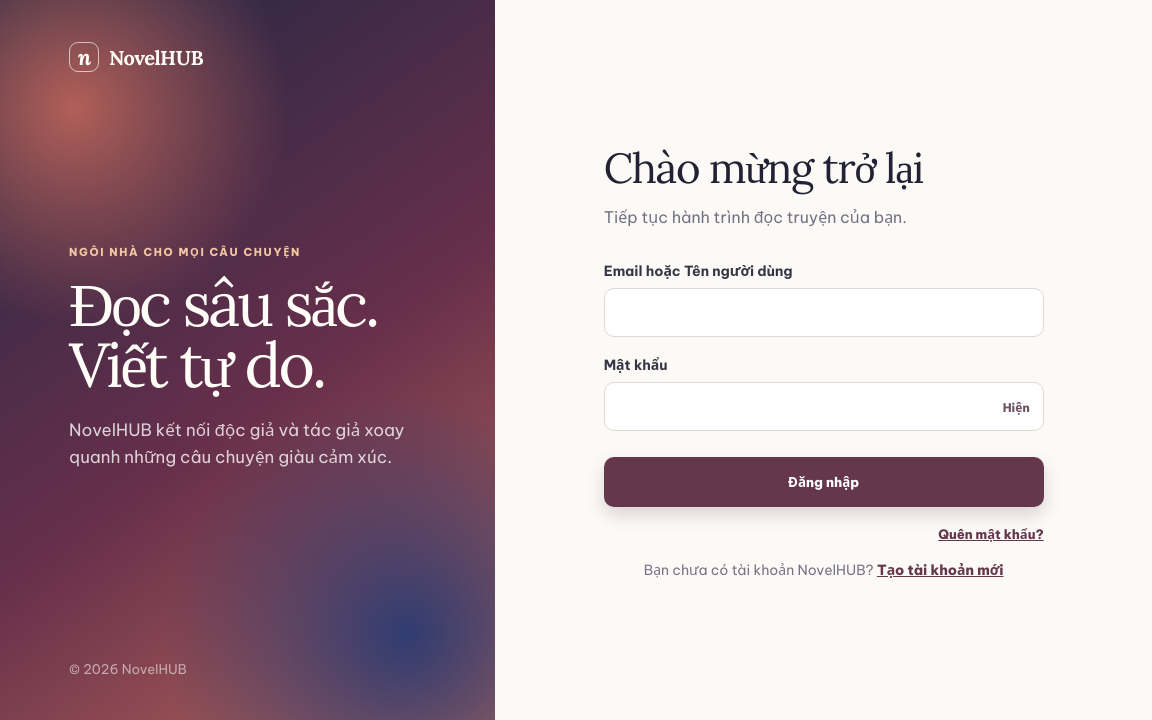
Test case: LoginPage › shows a generic error when sign in fails
The image size is (1152, 720).
Type "reader01" into the field labelled "Email hoặc Tên người dùng" at (824, 313), box [604,288,1044,337]
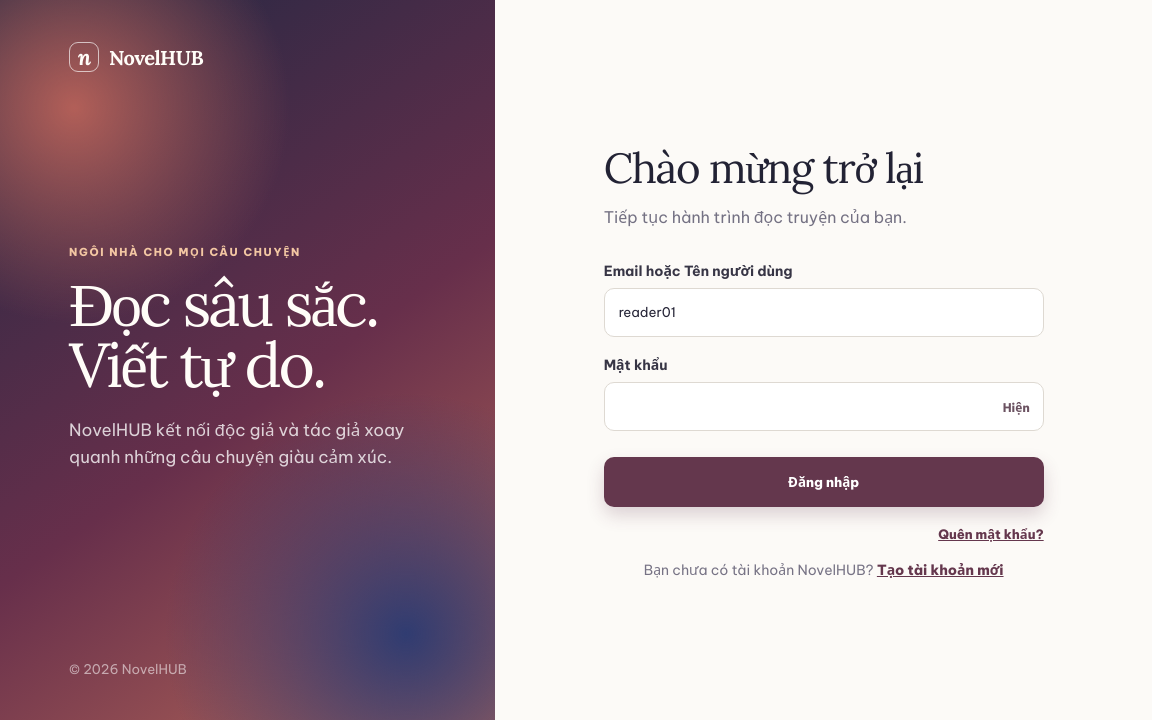
Type "wrong-password" into the password field labelled "Mật khẩu" at (824, 407), box [604,382,1044,431]
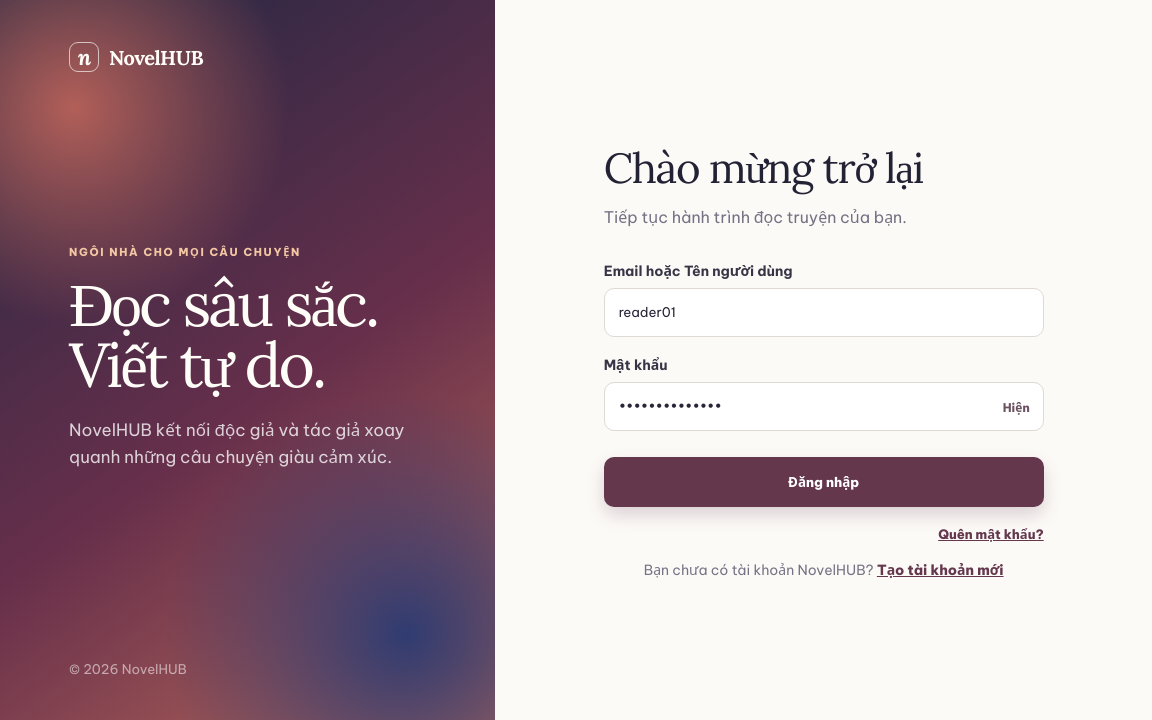
Click the button "Đăng nhập" at (824, 482), box [604,457,1044,507]
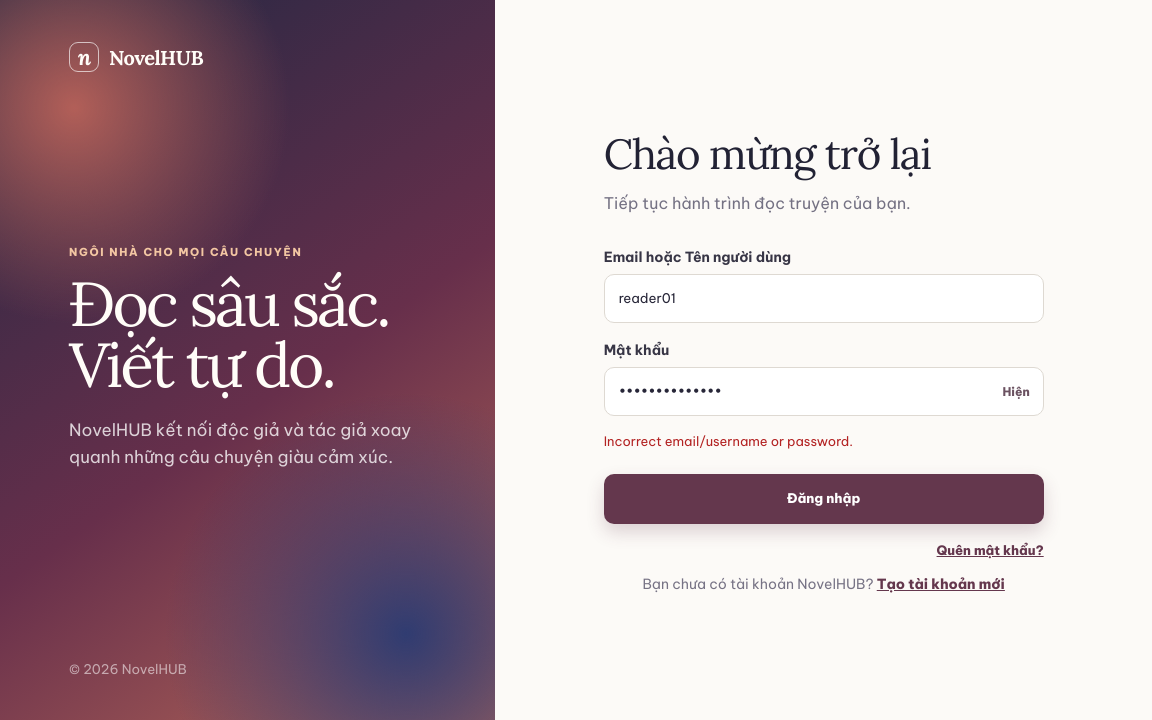
Result: the message reads "Incorrect email/username or password." at [604,433,853,449]
